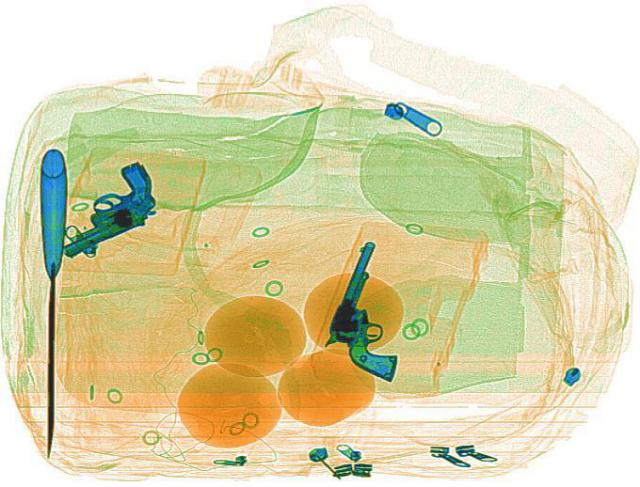Gun: (305, 237, 447, 380), (22, 158, 180, 255)
Knife: (36, 148, 64, 457)
